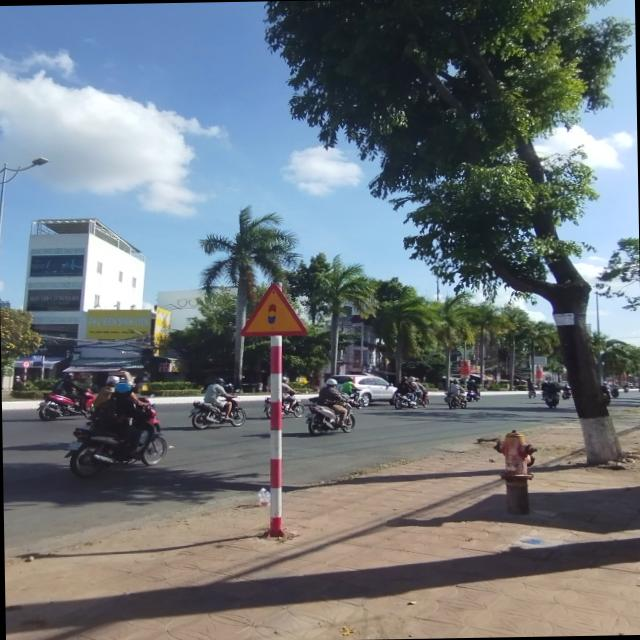Duong_Co_Go_Giam_Toc: (238, 281, 308, 337)
